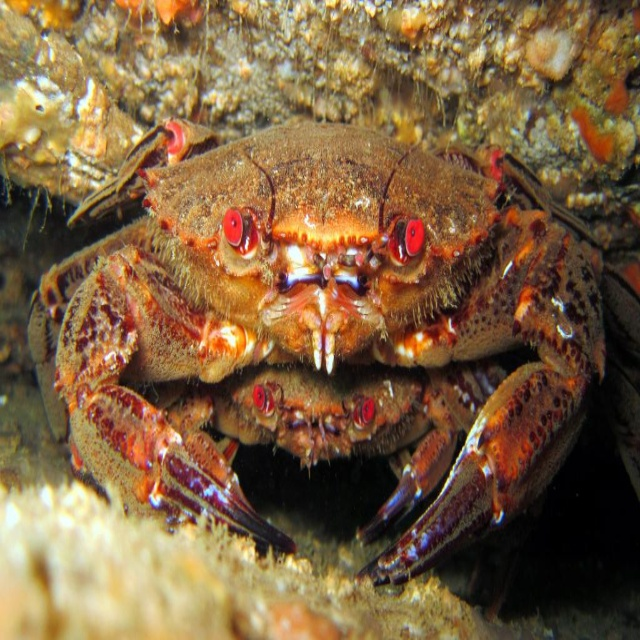Crab: (27, 124, 640, 588)
